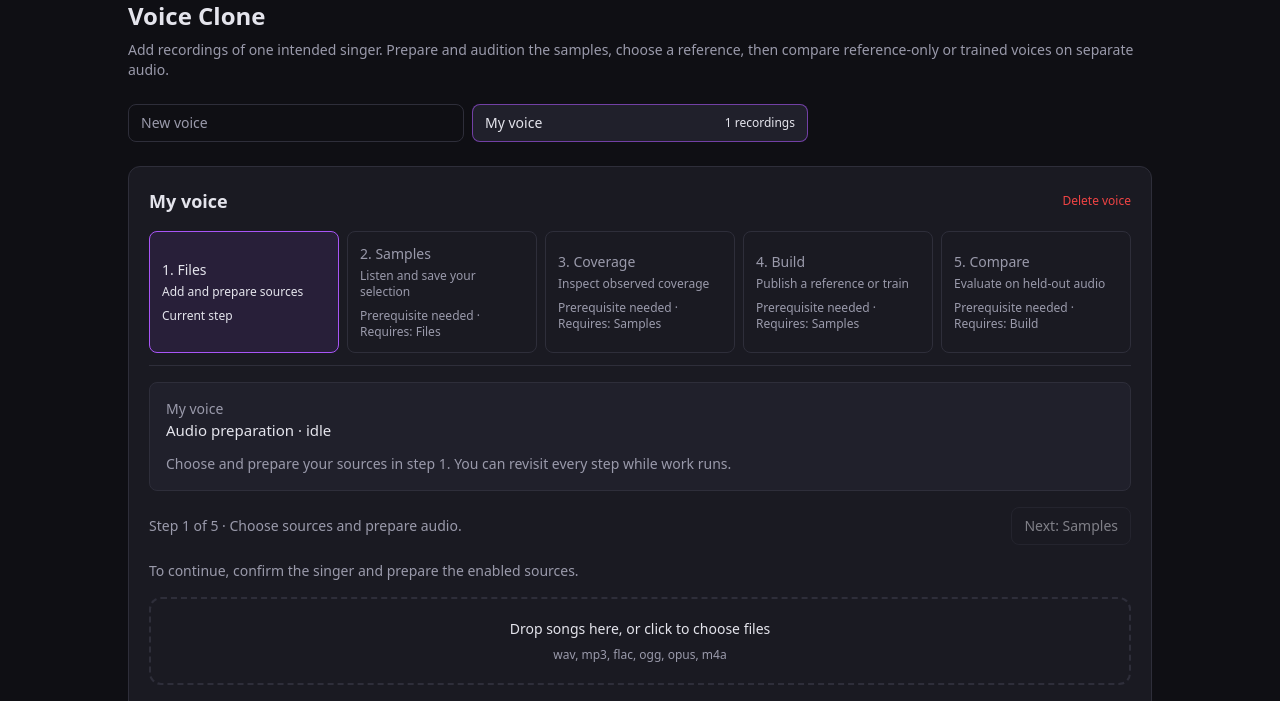
keeps published and archived reference labels understandable when historical choices are gone
Click the tab with aria-label "Compare": (1036, 292) [941,231,1131,353]
(page scrolled)
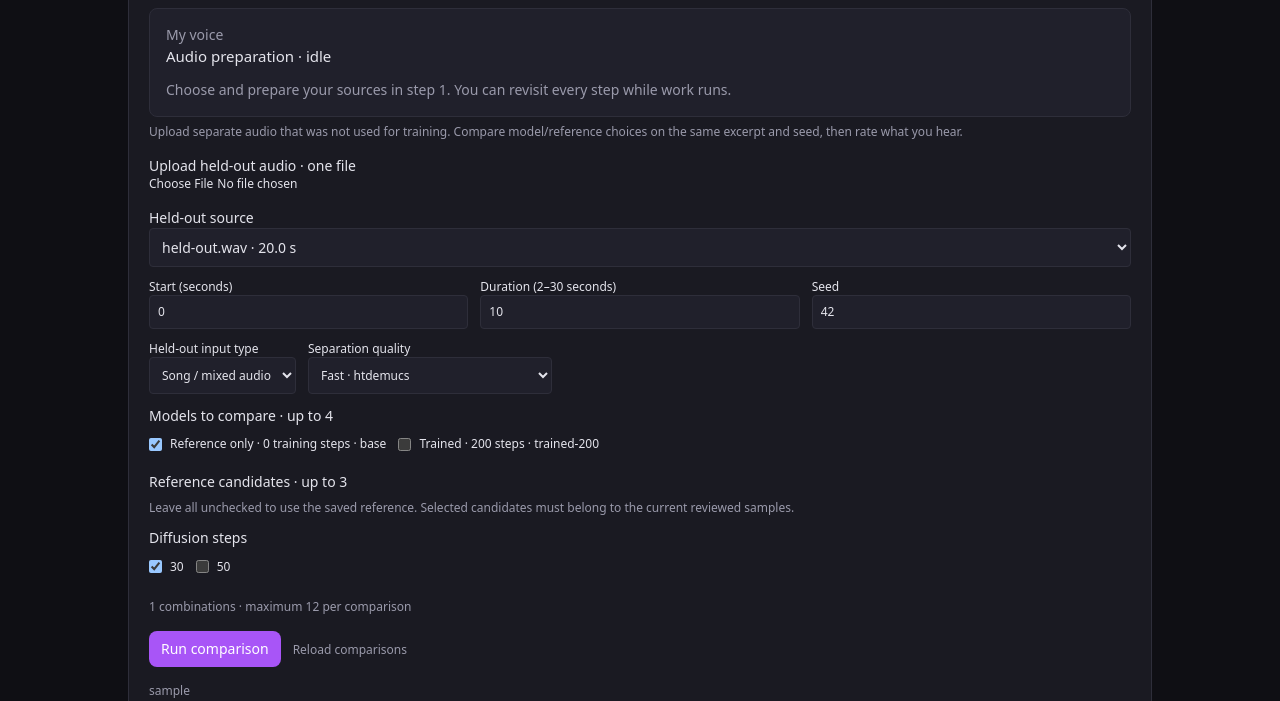
Click the button "Run comparison": (215, 648) [149,630,281,666]
(page scrolled)
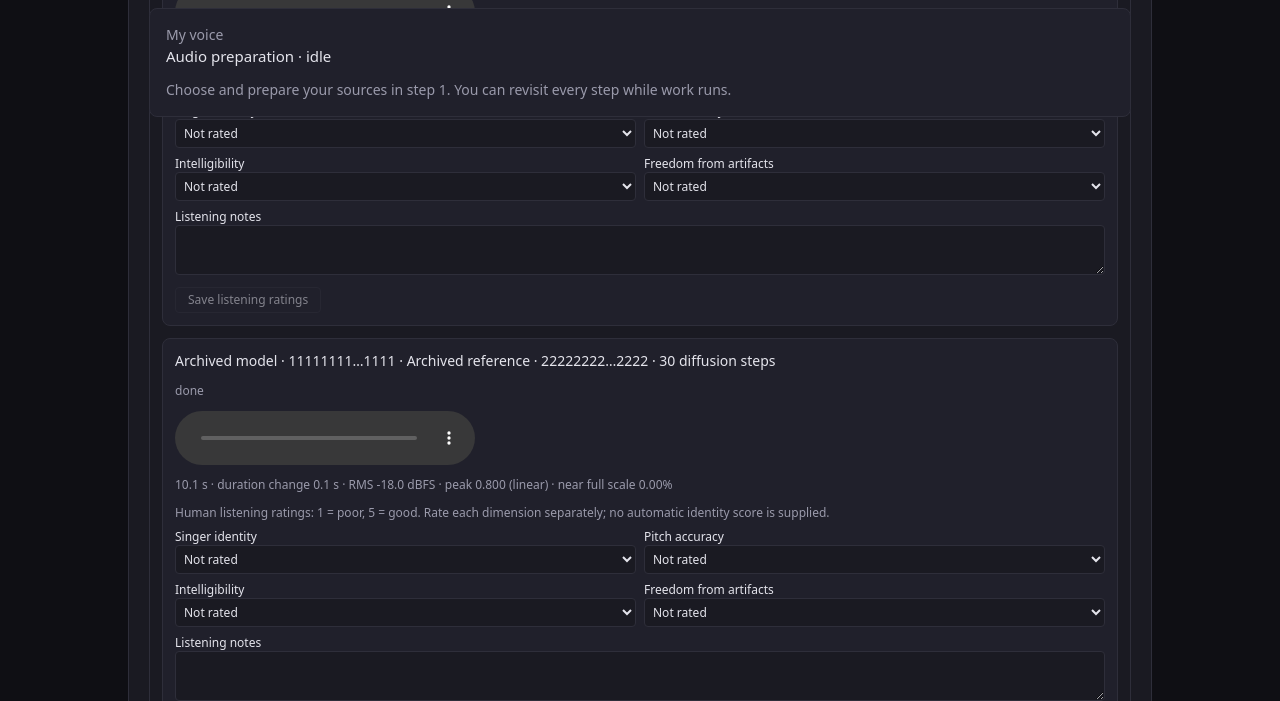
Expected: the heading with id "trial-comparison-1-archived-trial" shows "Archived reference · 22222222…2222", [407,350,648,370]
